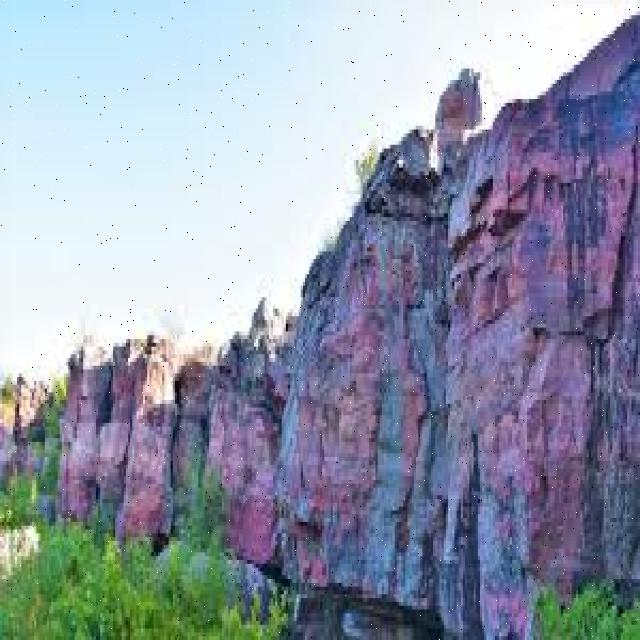Metamorphic: (66, 8, 629, 606)
